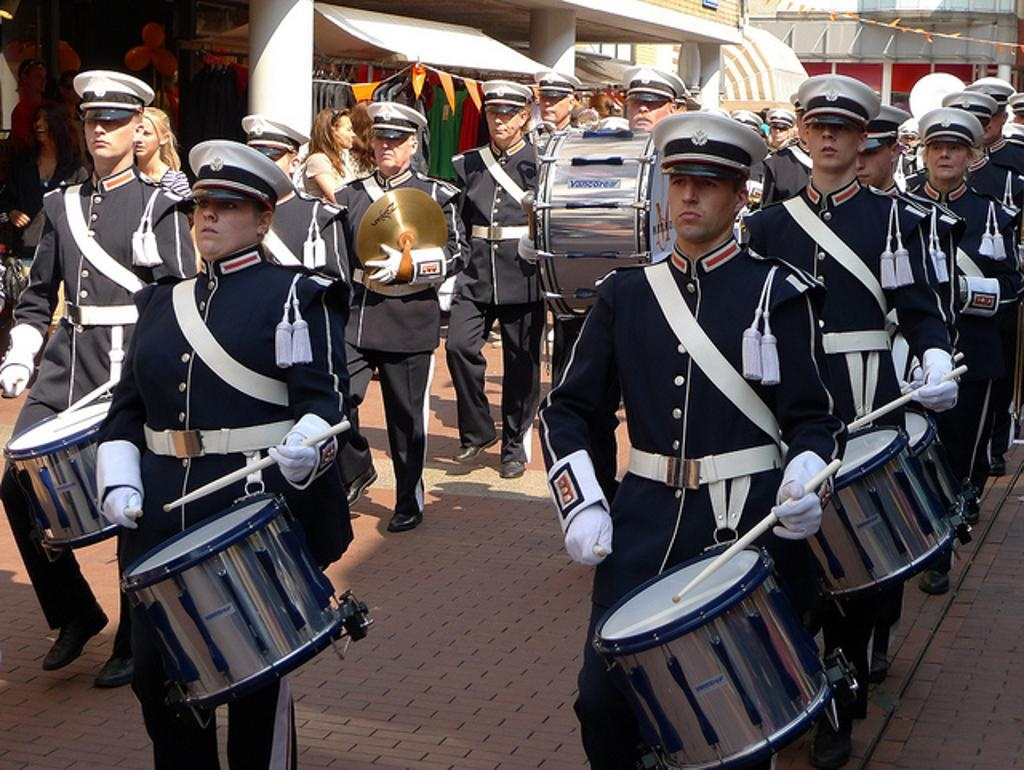human_face: (668, 165, 736, 239), (192, 192, 256, 253), (84, 106, 132, 158), (808, 117, 856, 168), (246, 140, 286, 186), (848, 144, 888, 188), (628, 93, 670, 132), (930, 138, 966, 177), (374, 130, 410, 168), (486, 104, 518, 138), (128, 120, 158, 156), (972, 103, 1002, 139), (538, 90, 568, 120), (336, 116, 356, 148), (798, 110, 818, 142), (34, 112, 54, 142), (28, 68, 46, 92), (770, 124, 788, 142)
